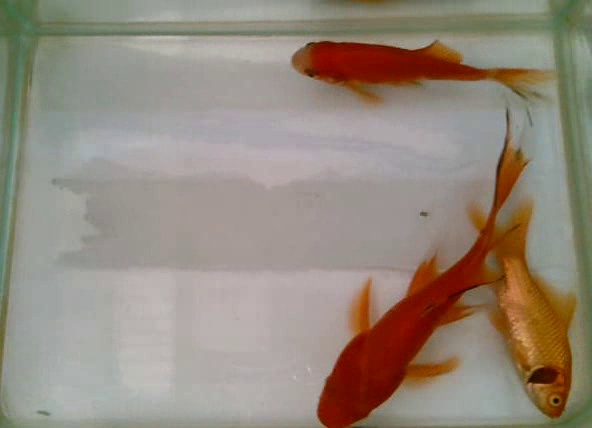alive_fish: (315, 87, 537, 428), (285, 30, 575, 134)
dead_fish: (459, 191, 584, 423)
